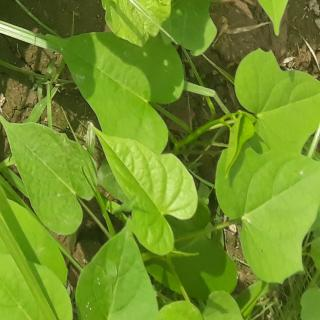karat_putih: (0, 0, 30, 2)
virus_keriting: (176, 0, 236, 1)
